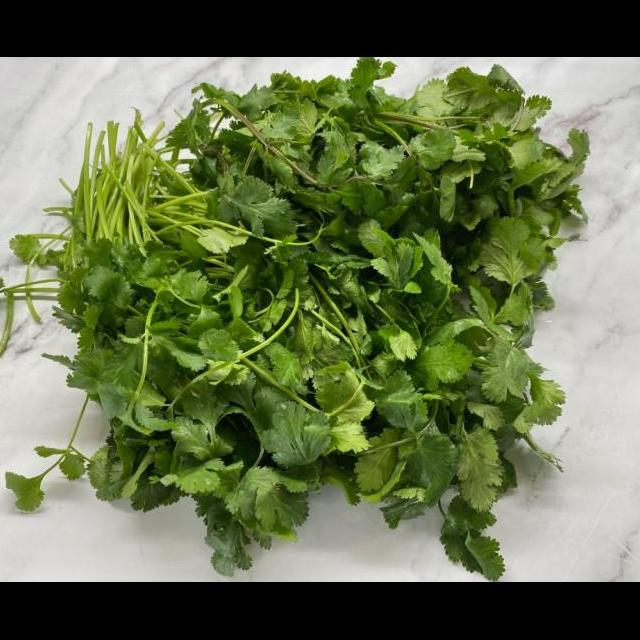cilantro: (0, 57, 590, 579)
